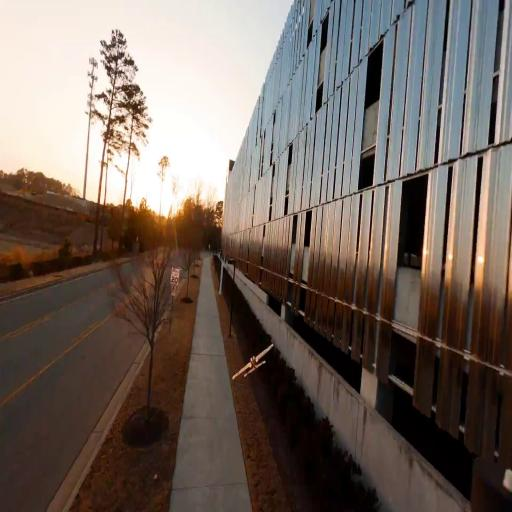uav: (230, 339, 275, 383)
